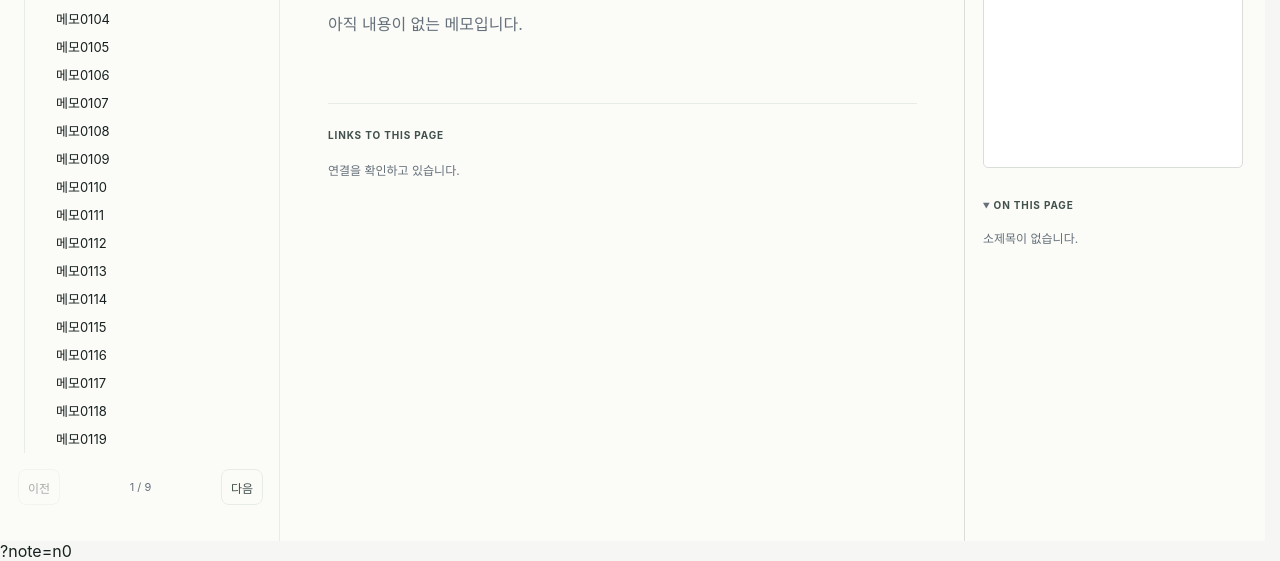
Test: private authorized WikiReader reading regressions › bounds navigation DOM and exposes the next page for a large owner projection
The width and height of the screenshot is (1280, 561).
(page scrolled)
Click the button "다음" at (242, 487), box top-left (221, 469), bottom-right (263, 505)
(page scrolled)
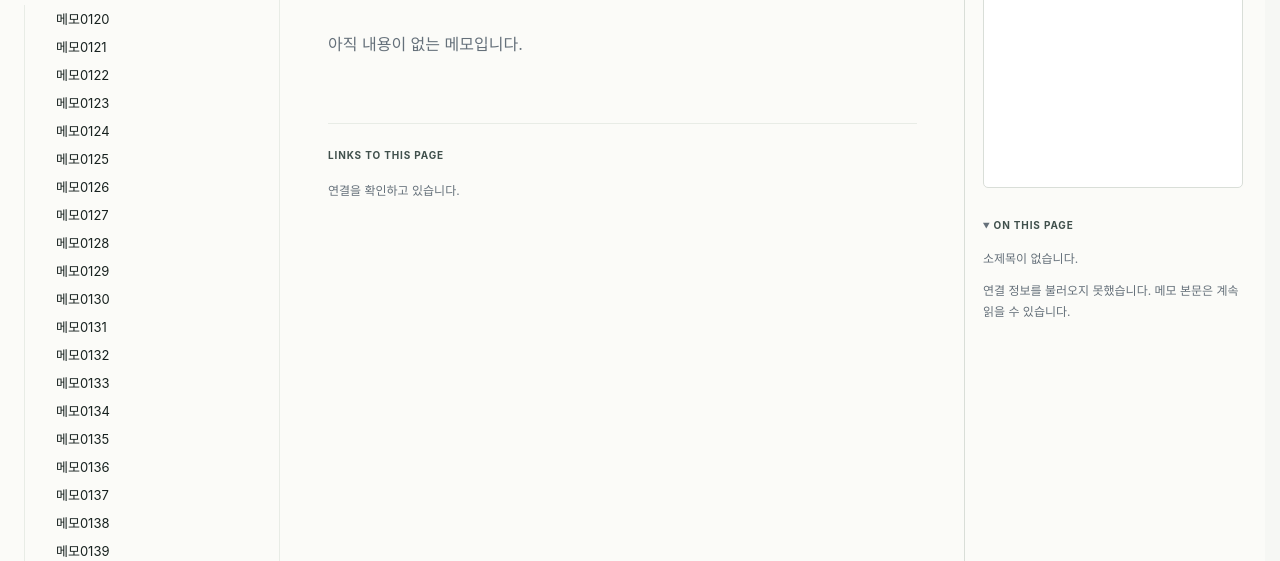
Expected: the link "메모0120" is shown, top-left (56, 11), bottom-right (110, 27)
